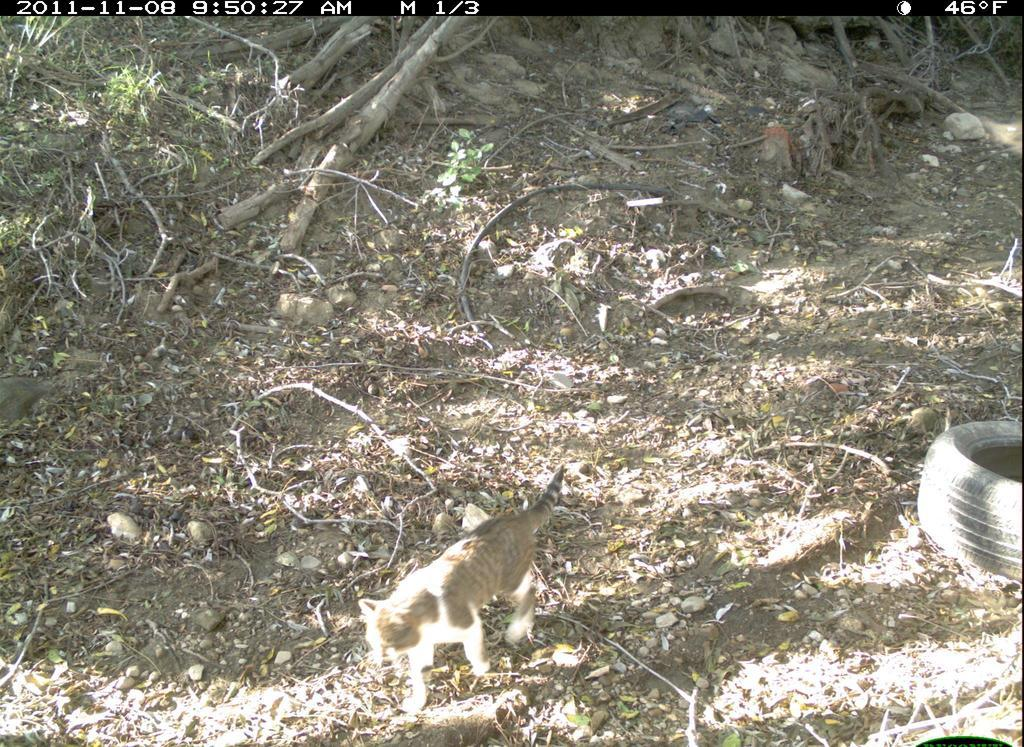cat: (354, 461, 579, 725)
